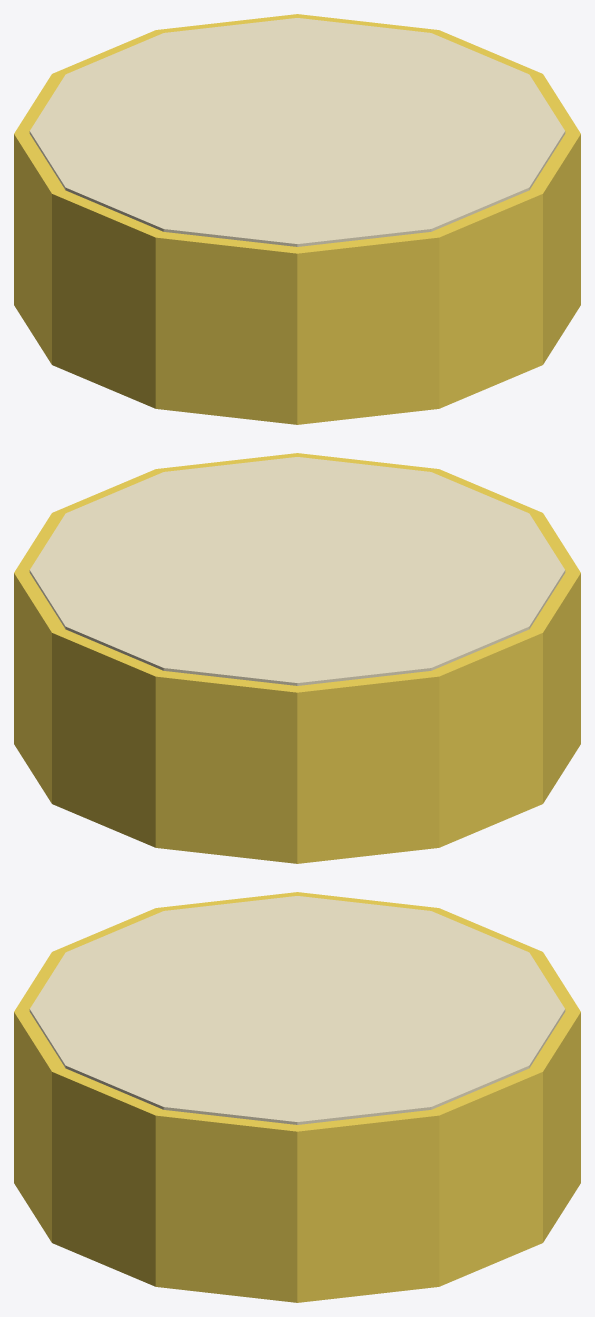
File: sm_product_cheese_wheel.glb
3 renders of one model, top to bottom at view 1: azimuth 30°, elevation 25°; view 2: azimuth 150°, elevation 25°; view 3: azimuth 270°, elevation 25°, orthographic.
Parts seen in each view (by area): view 1: cheese_wheel_0, cheese_wheel_1; view 2: cheese_wheel_0, cheese_wheel_1; view 3: cheese_wheel_0, cheese_wheel_1.
Part boxes in pixels (<box>): cheese_wheel_0: <box>14,14,580,424</box>; cheese_wheel_1: <box>29,18,565,246</box>; cheese_wheel_0: <box>14,453,580,863</box>; cheese_wheel_1: <box>29,457,565,685</box>; cheese_wheel_0: <box>14,892,580,1302</box>; cheese_wheel_1: <box>29,896,565,1124</box>.
Size of what is drawn, in the model's own units: 0.36 by 0.122 by 0.36.
